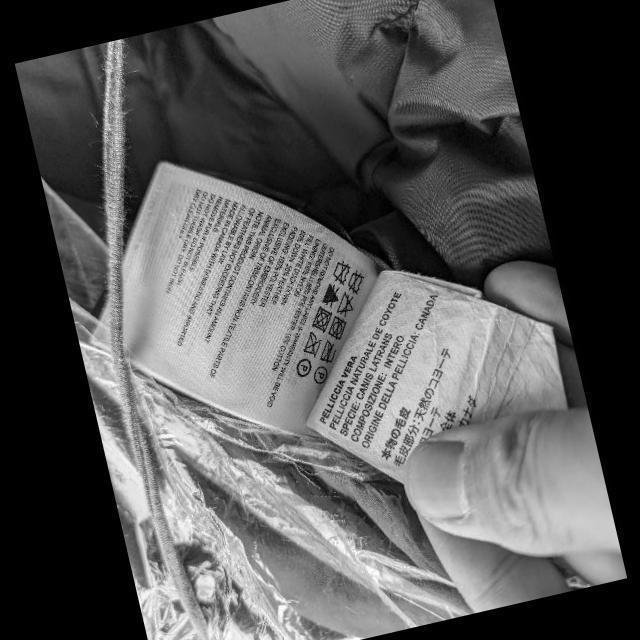DN_bleach: (331, 288, 357, 318), (316, 279, 342, 309)
DN_iron: (297, 328, 325, 360), (314, 336, 338, 365)
DN_tumble_dry: (306, 302, 336, 335), (322, 312, 350, 342)
DN_wash: (342, 266, 368, 296), (328, 258, 354, 286)
normal_dry_clean_solvents: (292, 354, 314, 378), (310, 362, 330, 384)
